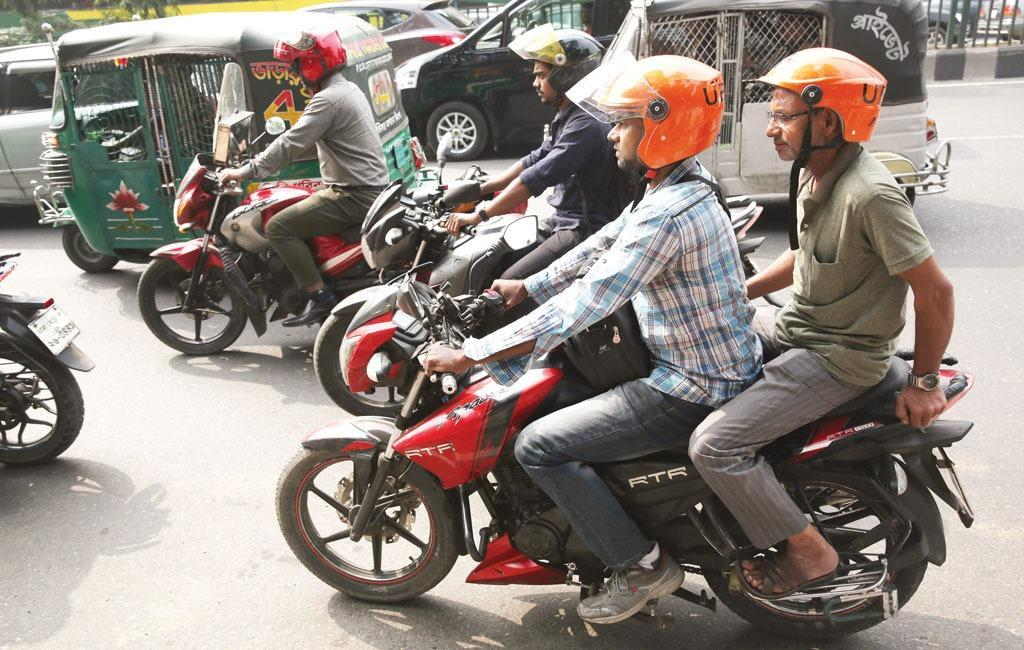helmet: (584, 54, 725, 180), (752, 46, 889, 168), (507, 21, 604, 106), (272, 22, 348, 91)
